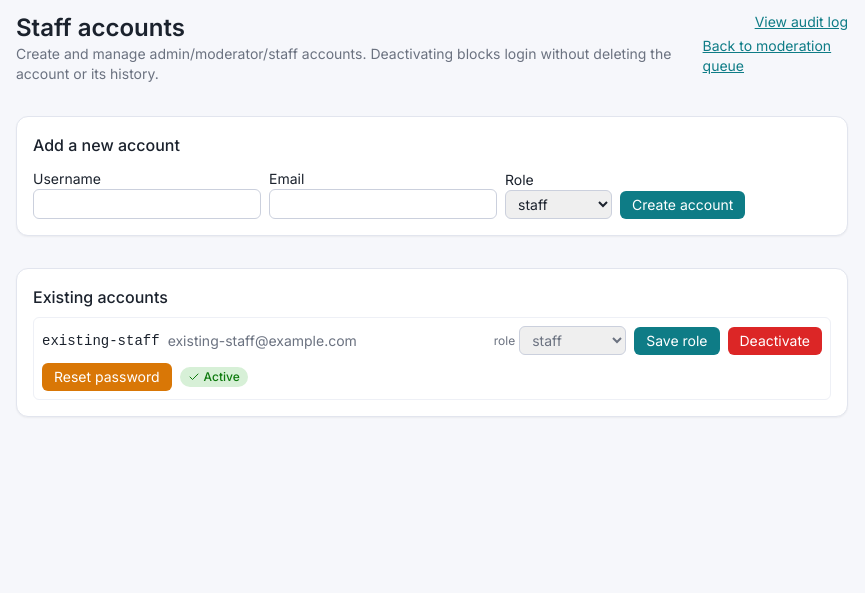
Test: StaffAccountsPage (GitHub issue #591, Phase 42, D99) › creates an account and shows the one-time password
Check: the text "existing-staff" is shown, box [42,330,160,350]
Type "new-moderator" into the field labelled "Username" at x=147, y=204, box [33,189,261,219]
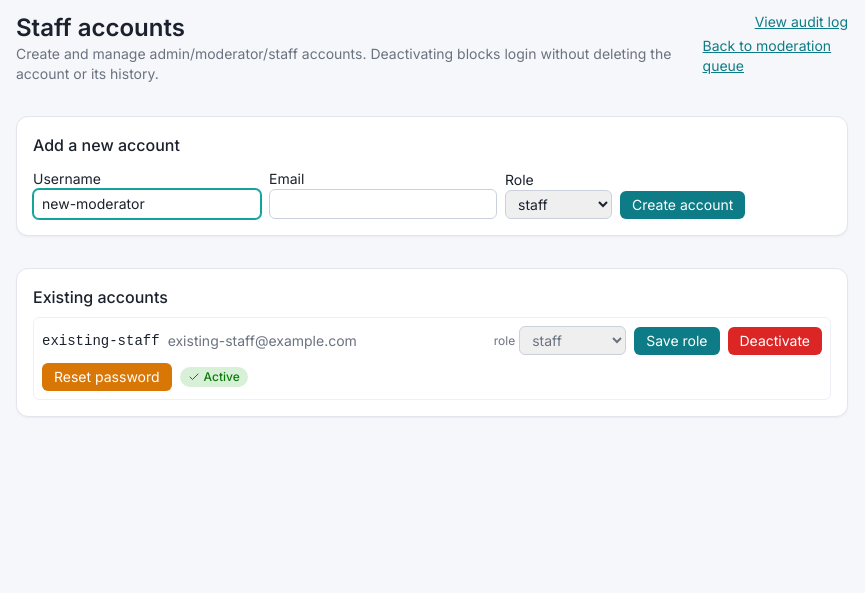
Type "new-moderator@example.com" into the field labelled "Email" at x=383, y=204, box [269,189,497,219]
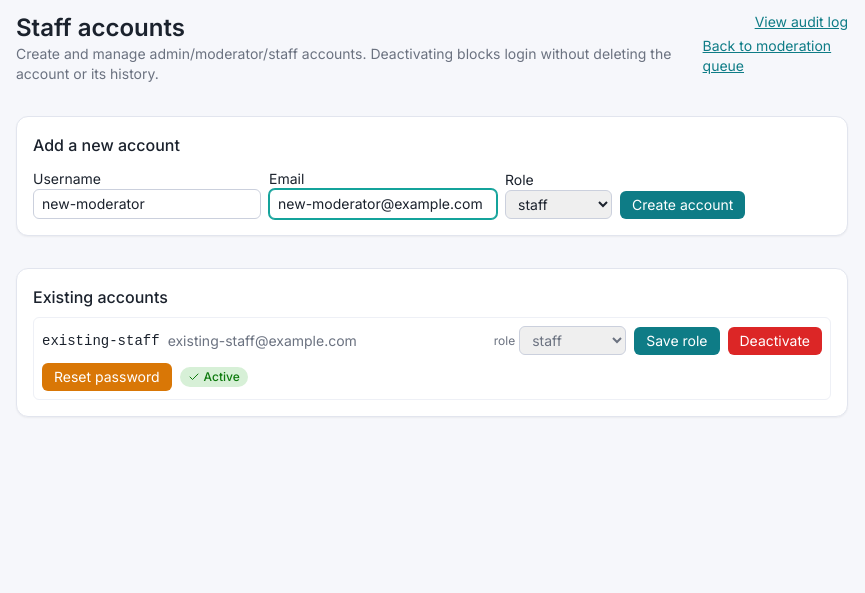
Select "moderator" in the dropdown labelled "Role" at x=558, y=204, box [505,190,612,219]
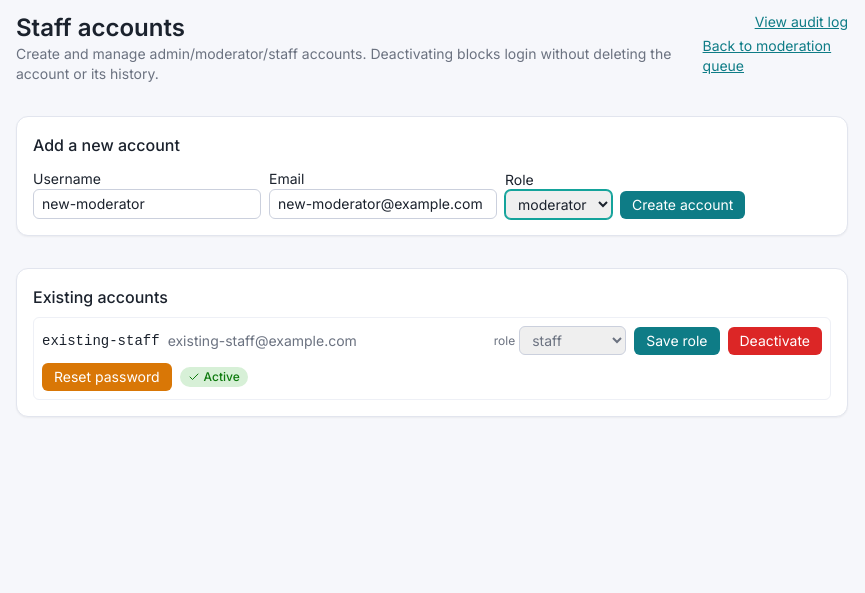
Click the button "Create account" at x=683, y=205, box [620,191,745,219]
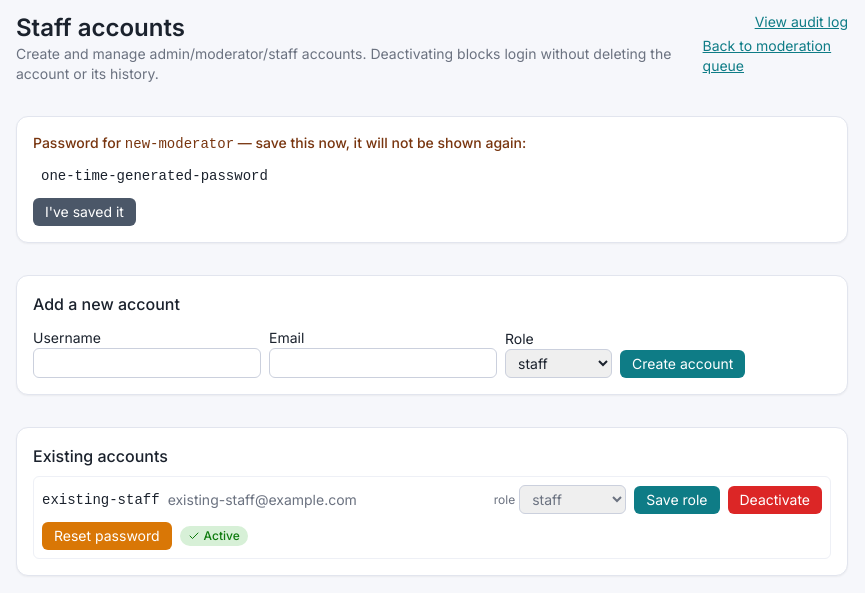
Check: the text "one-time-generated-password" is shown, box [33,162,831,190]
Check: the text "new-moderator" is shown, box [125,136,234,152]
